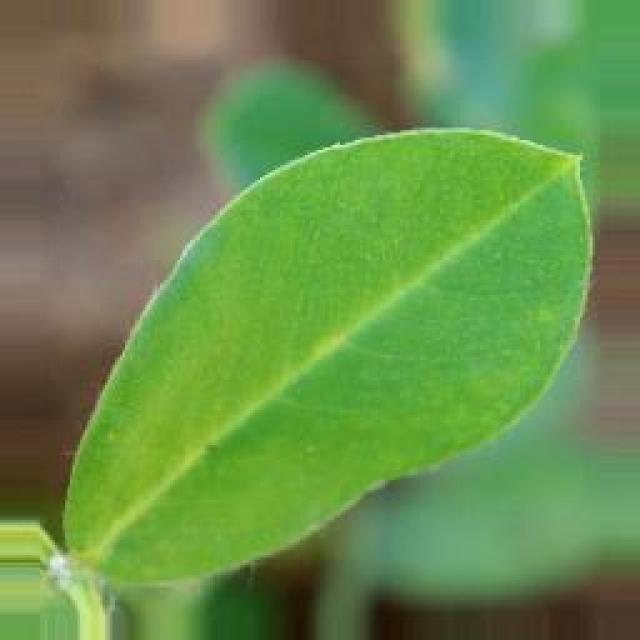Yellow_and_black_sigatoka: (58, 115, 592, 640)
